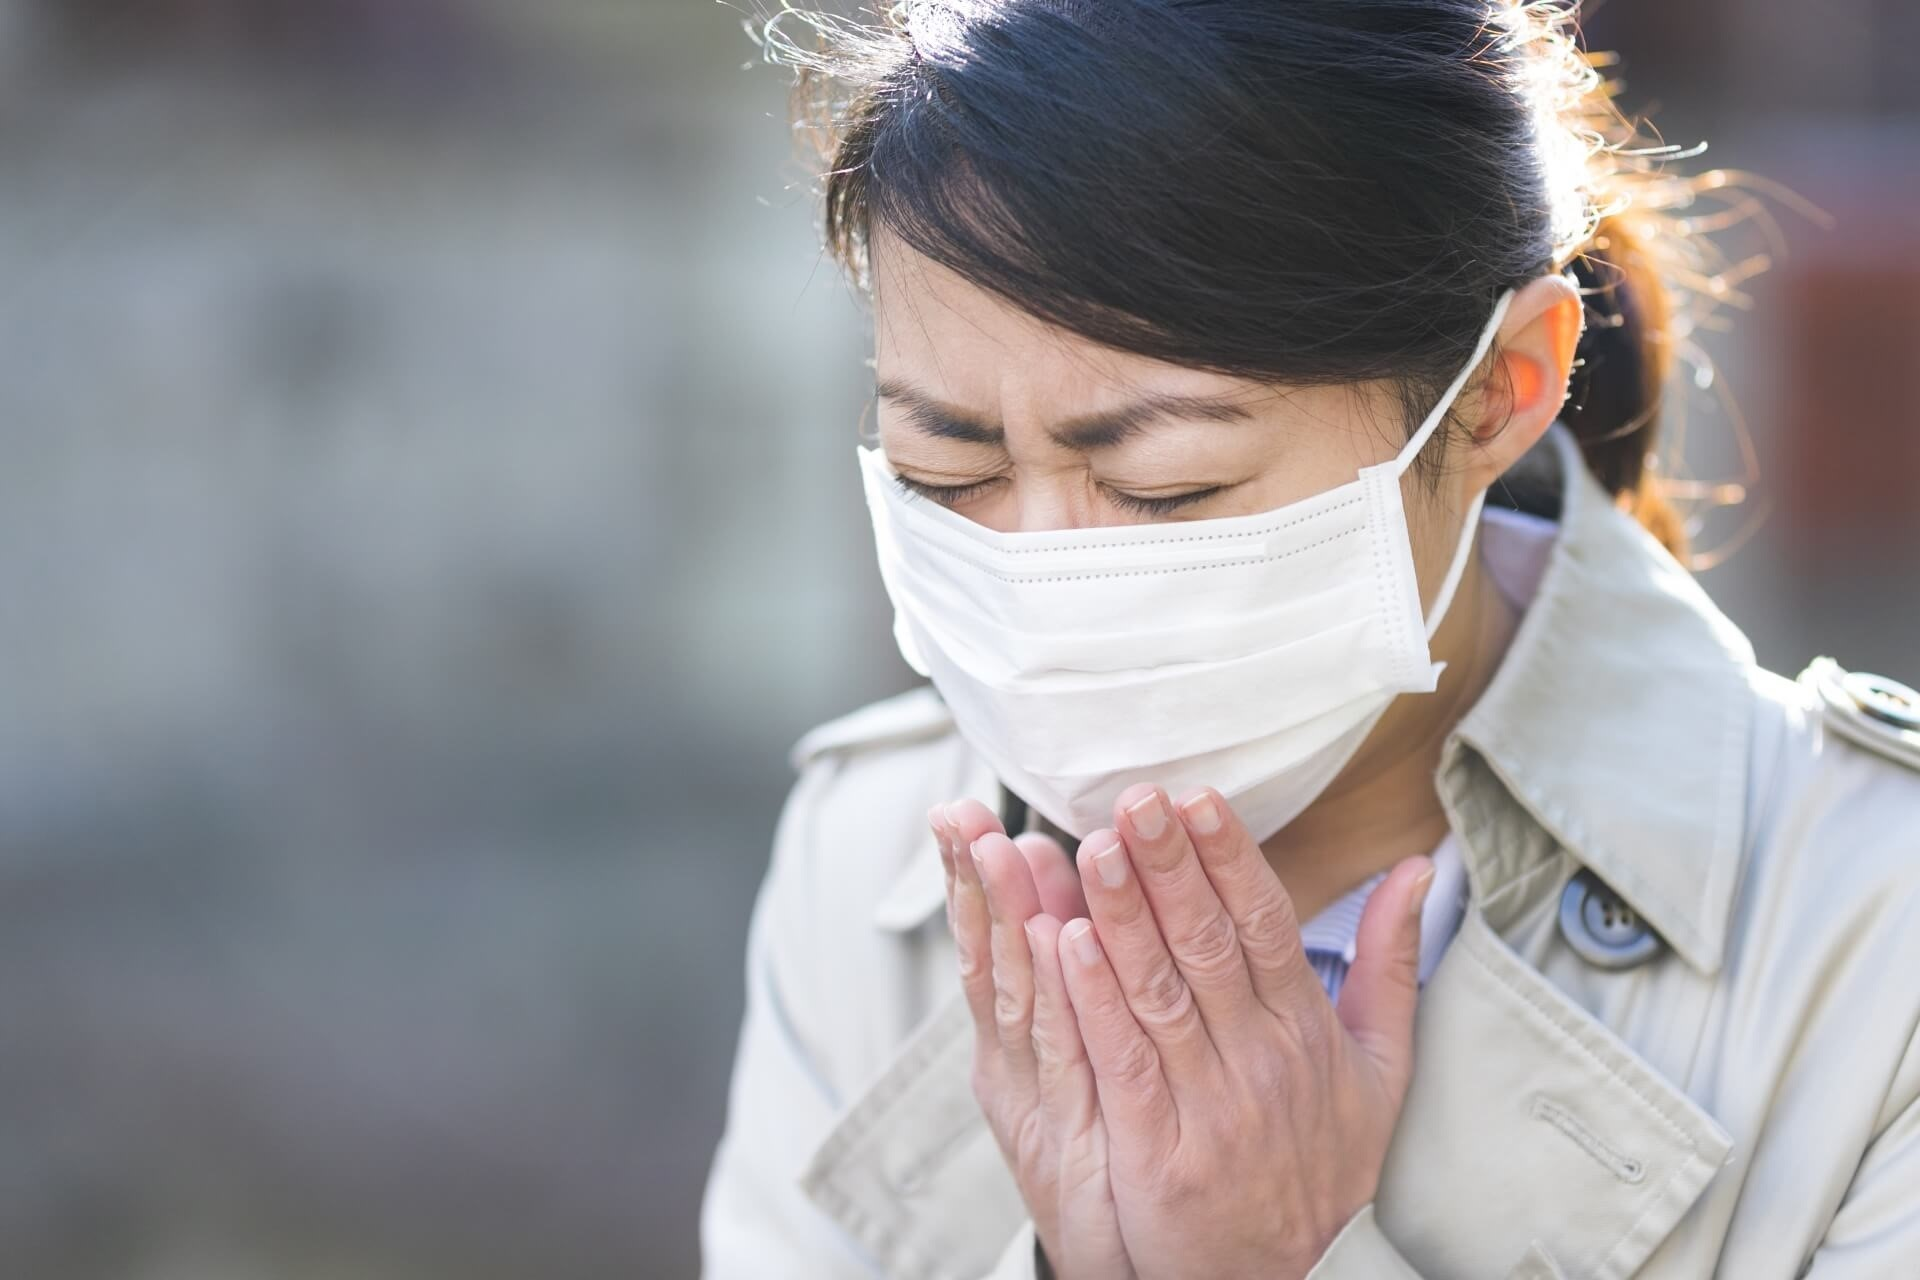face_with_mask: (839, 6, 1590, 872)
